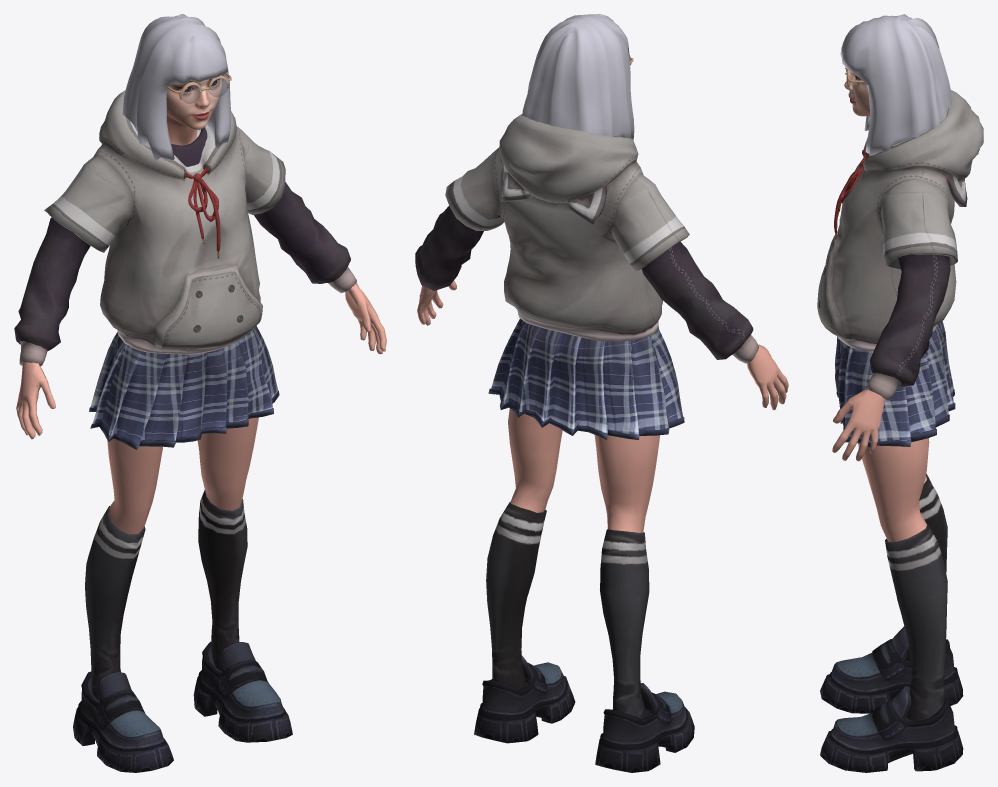
The model's file is Nerd.glb.
3 views of the same model, side by side, from view 1: azimuth 30°, elevation 25°; view 2: azimuth 150°, elevation 25°; view 3: azimuth 270°, elevation 25° (orthographic).
Parts seen in each view (by area): view 1: Wolf3D_Outfit_Top, Wolf3D_Outfit_Bottom, Wolf3D_Outfit_Footwear, Wolf3D_Body, Wolf3D_Hair, Wolf3D_Head, Wolf3D_Glasses; view 2: Wolf3D_Outfit_Top, Wolf3D_Outfit_Bottom, Wolf3D_Body, Wolf3D_Outfit_Footwear, Wolf3D_Hair; view 3: Wolf3D_Outfit_Top, Wolf3D_Outfit_Bottom, Wolf3D_Outfit_Footwear, Wolf3D_Hair, Wolf3D_Body, Wolf3D_Head.
Boxes of the visible parts, bbox=[...] form: Wolf3D_Outfit_Top: bbox=[14, 90, 356, 366]; Wolf3D_Outfit_Bottom: bbox=[85, 326, 279, 699]; Wolf3D_Outfit_Footwear: bbox=[73, 641, 292, 772]; Wolf3D_Body: bbox=[16, 283, 386, 533]; Wolf3D_Hair: bbox=[122, 14, 231, 160]; Wolf3D_Head: bbox=[166, 78, 222, 145]; Wolf3D_Glasses: bbox=[165, 72, 231, 103]; Wolf3D_Outfit_Top: bbox=[415, 114, 758, 363]; Wolf3D_Outfit_Bottom: bbox=[486, 318, 684, 718]; Wolf3D_Body: bbox=[417, 280, 788, 532]; Wolf3D_Outfit_Footwear: bbox=[474, 655, 694, 772]; Wolf3D_Hair: bbox=[522, 14, 634, 140]; Wolf3D_Outfit_Top: bbox=[817, 90, 983, 400]; Wolf3D_Outfit_Bottom: bbox=[835, 321, 955, 721]; Wolf3D_Outfit_Footwear: bbox=[820, 626, 963, 772]; Wolf3D_Hair: bbox=[840, 14, 951, 155]; Wolf3D_Body: bbox=[832, 389, 929, 541]; Wolf3D_Head: bbox=[844, 72, 869, 116].
Bounding box in the file's own units: 0.9279 × 1.76 × 0.374.
Materials: 9 (9 with a texture image).
